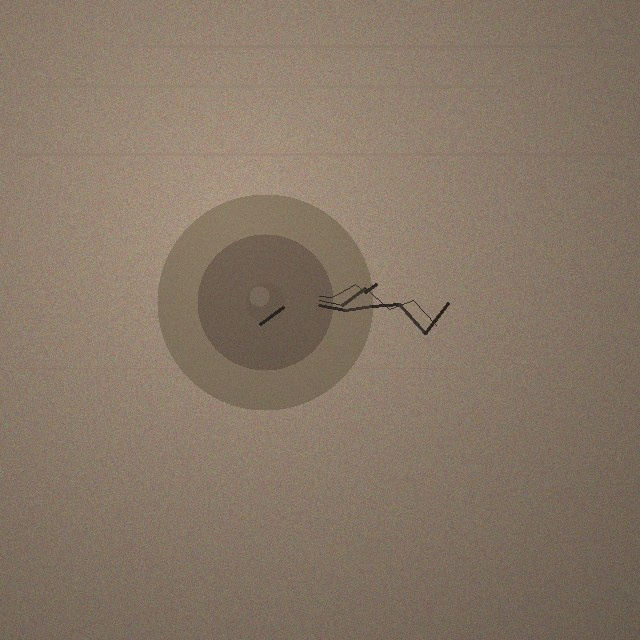crack: (157, 194, 373, 410)
